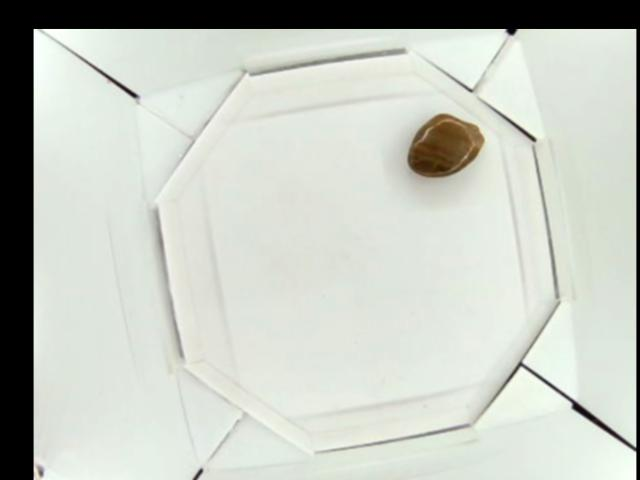Pebble: (404, 111, 484, 177)
